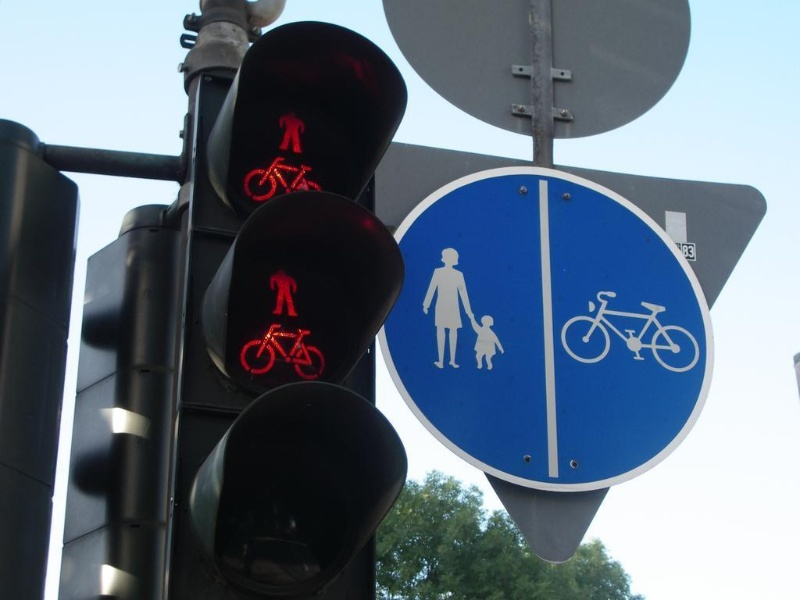cycle_route_ahead: (535, 173, 704, 467)
pedestrian_crossing_ahead: (397, 169, 543, 484)
red_light: (223, 198, 359, 394)
